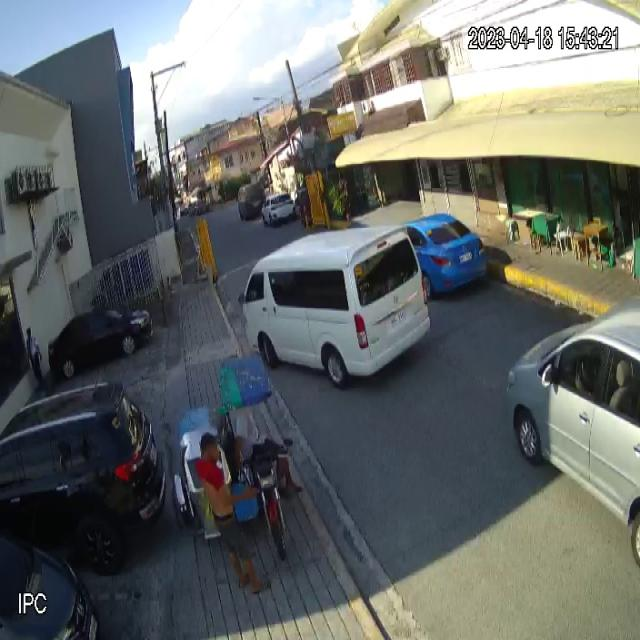Car: (46, 304, 154, 382)
Tricycle: (172, 346, 290, 557)
Van: (239, 220, 433, 390)
